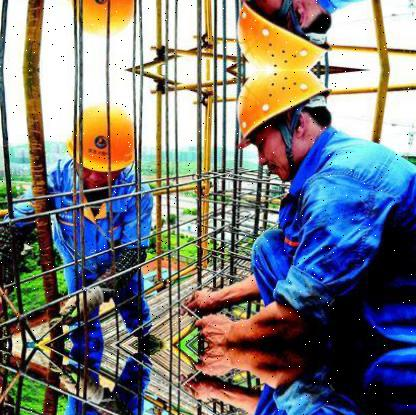helmet: (227, 69, 339, 180), (226, 0, 339, 70), (71, 93, 143, 198), (70, 0, 143, 46)
